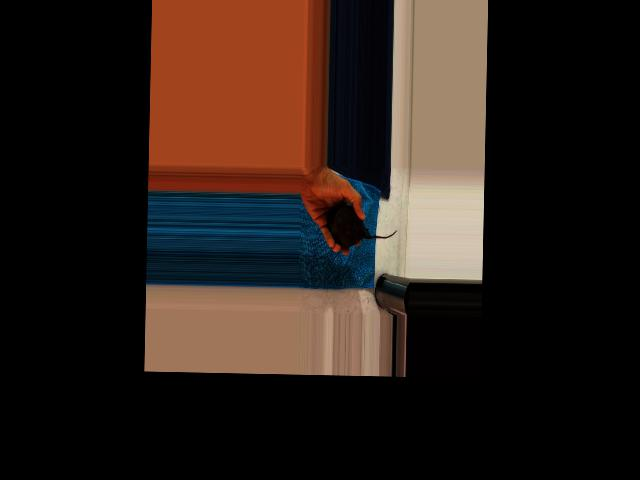beet: (326, 205, 396, 249)
